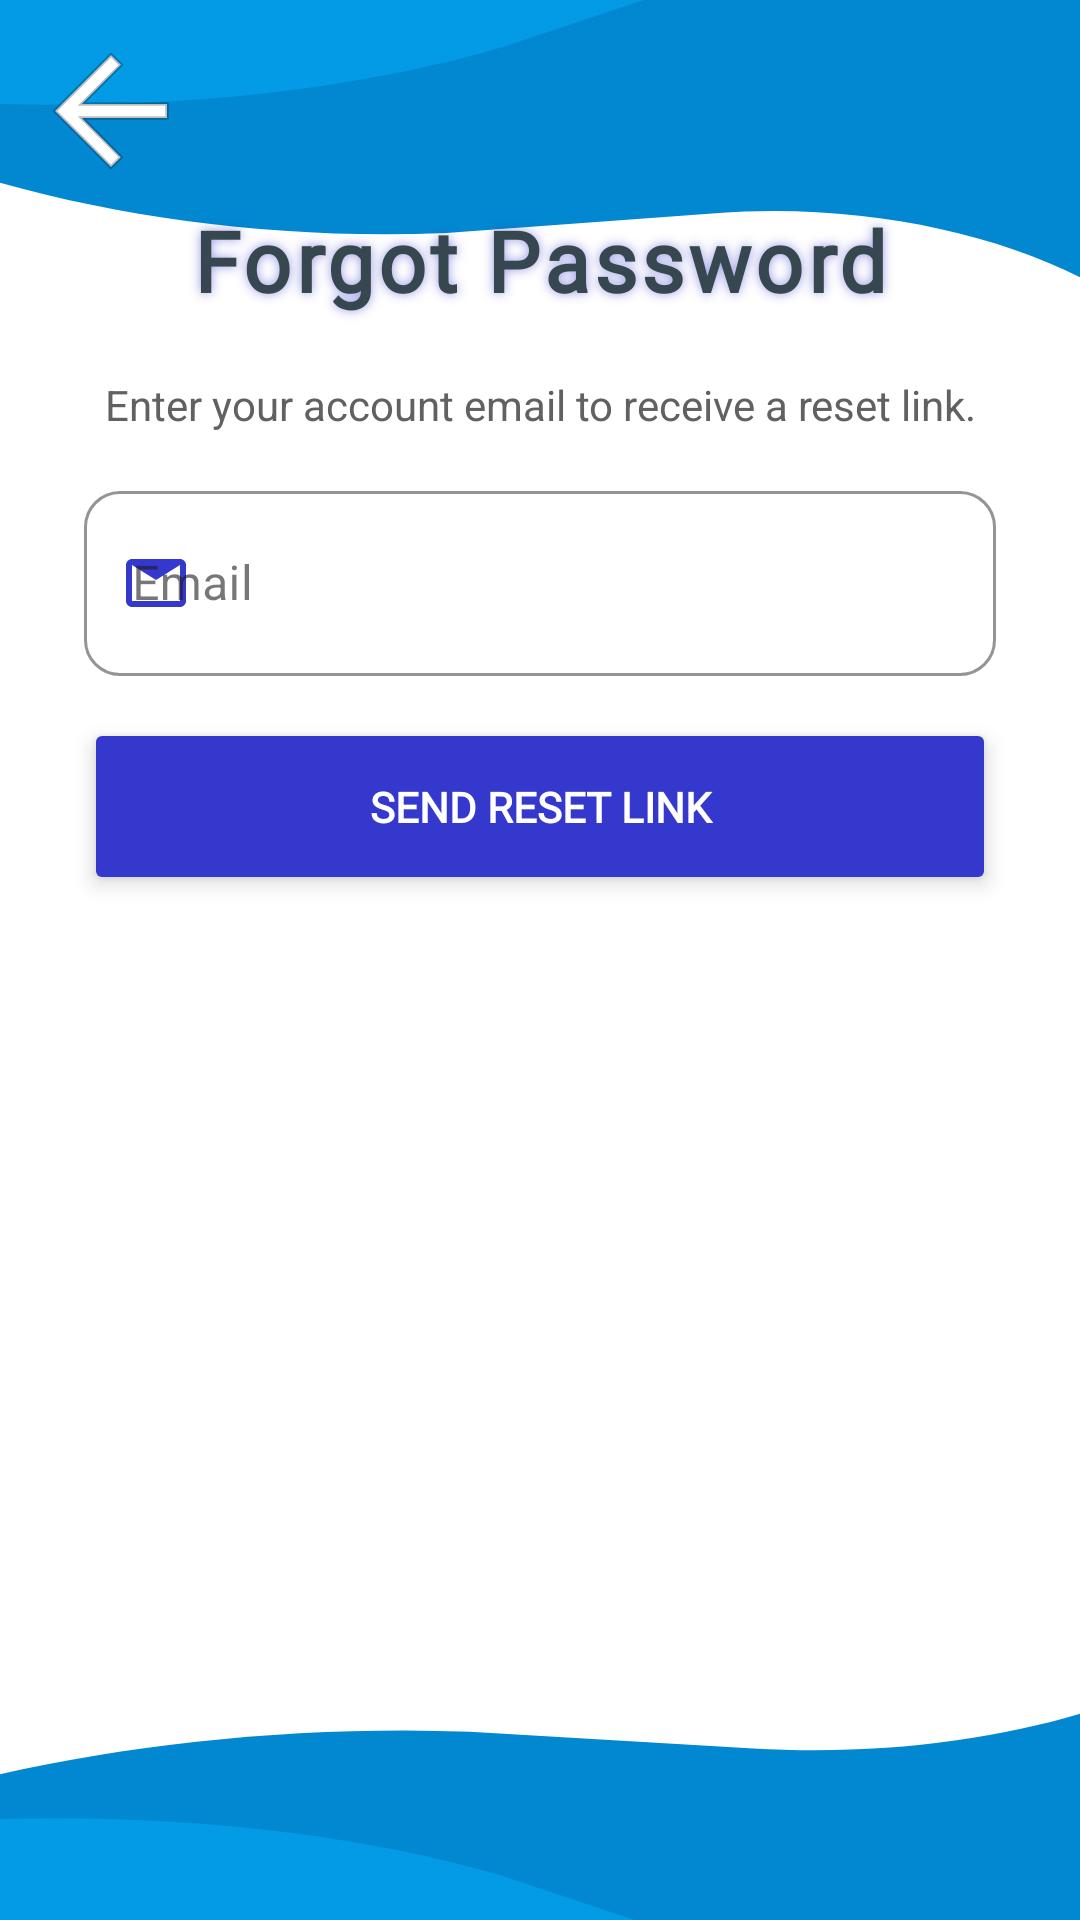

Icon click points for this 1080×1920 phone screenshot, format [x,y]:
back: [111,133]
